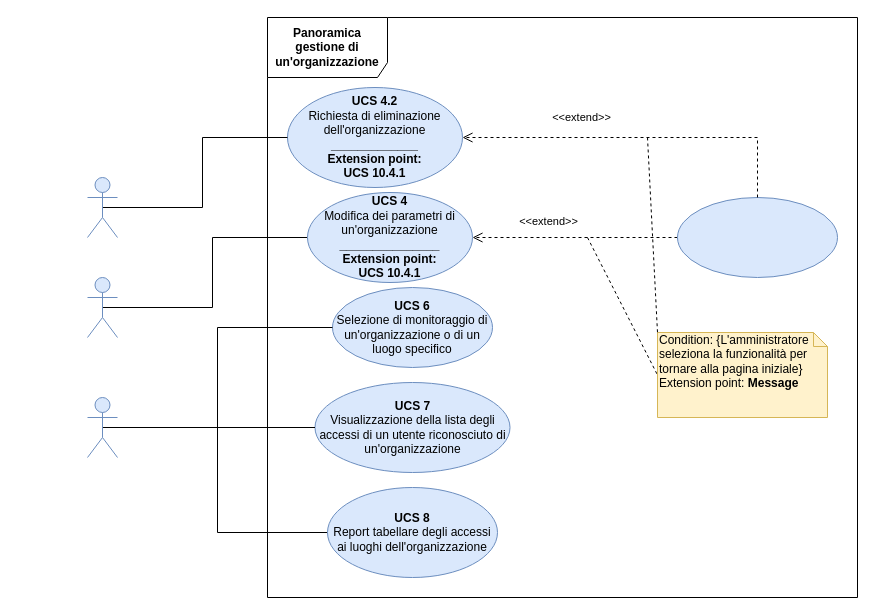
The diagram is 875 pixels wide and 615 high, and some of its shapes have lost their labels. The shapes that lost their labels are listed below. From the top down, each one's centre as x and y in pixels, then its label:
At point 102,207: "Amministratore proprietario".
At point 757,237: "UCS 10.4.1 Annullamento modifica dei parametri di un'organizzazione".
At point 102,307: "Amministratore gestore".
At point 102,427: "Amministratore visualizzatore".
